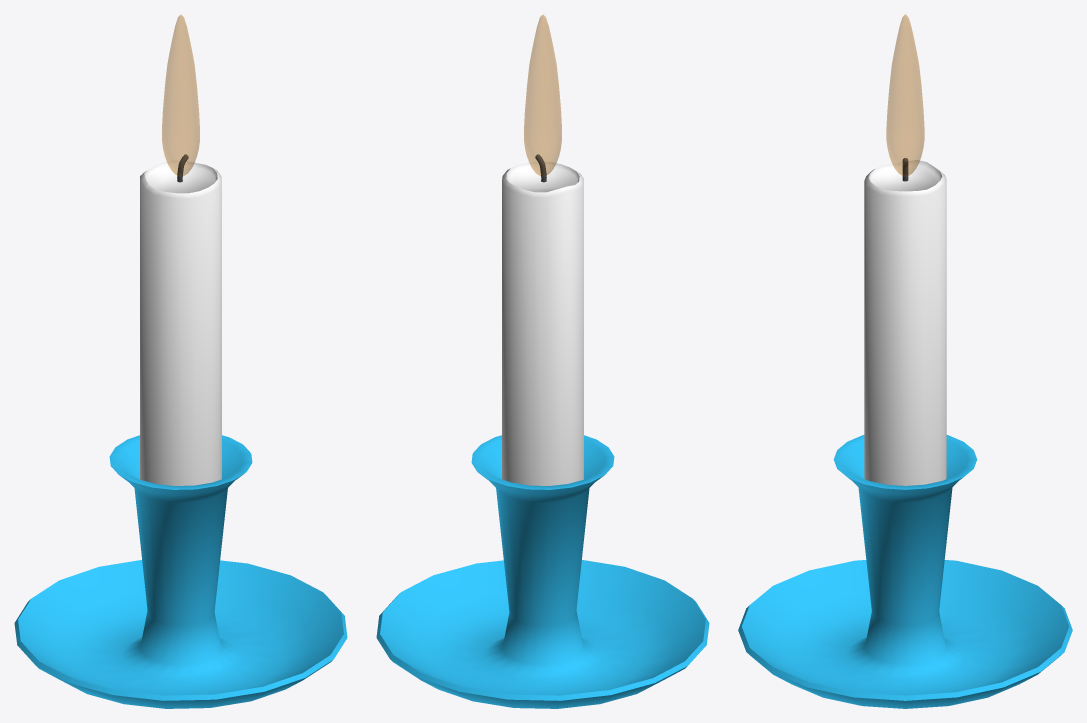
File: Candle.FBX
The picture shows the model from 3 angles, left to right: view 1: azimuth 30°, elevation 25°; view 2: azimuth 150°, elevation 25°; view 3: azimuth 270°, elevation 25°; orthographic projection.
Visible parts, largest first — view 1: Candle; view 2: Candle; view 3: Candle.
Part boxes in pixels (left/top/right/bottom): Candle: left=14, top=15, right=347, bottom=708; Candle: left=376, top=15, right=709, bottom=708; Candle: left=738, top=14, right=1072, bottom=708.
Bounding box in the file's own units: 0.3668 × 0.7808 × 0.3668.
